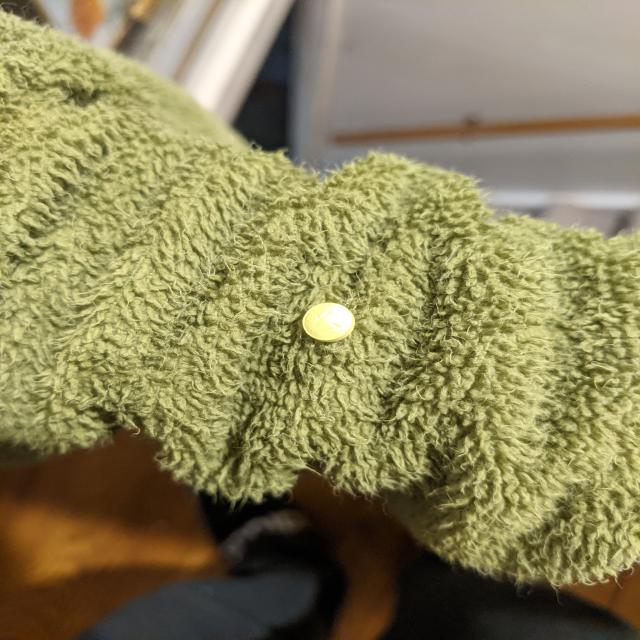non-organic waste: (301, 302, 356, 342)
